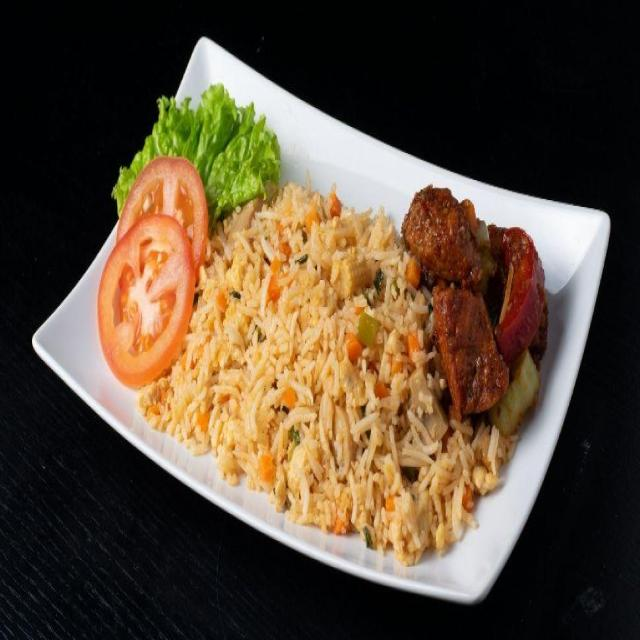Nasi Goreng: (170, 157, 439, 548)
